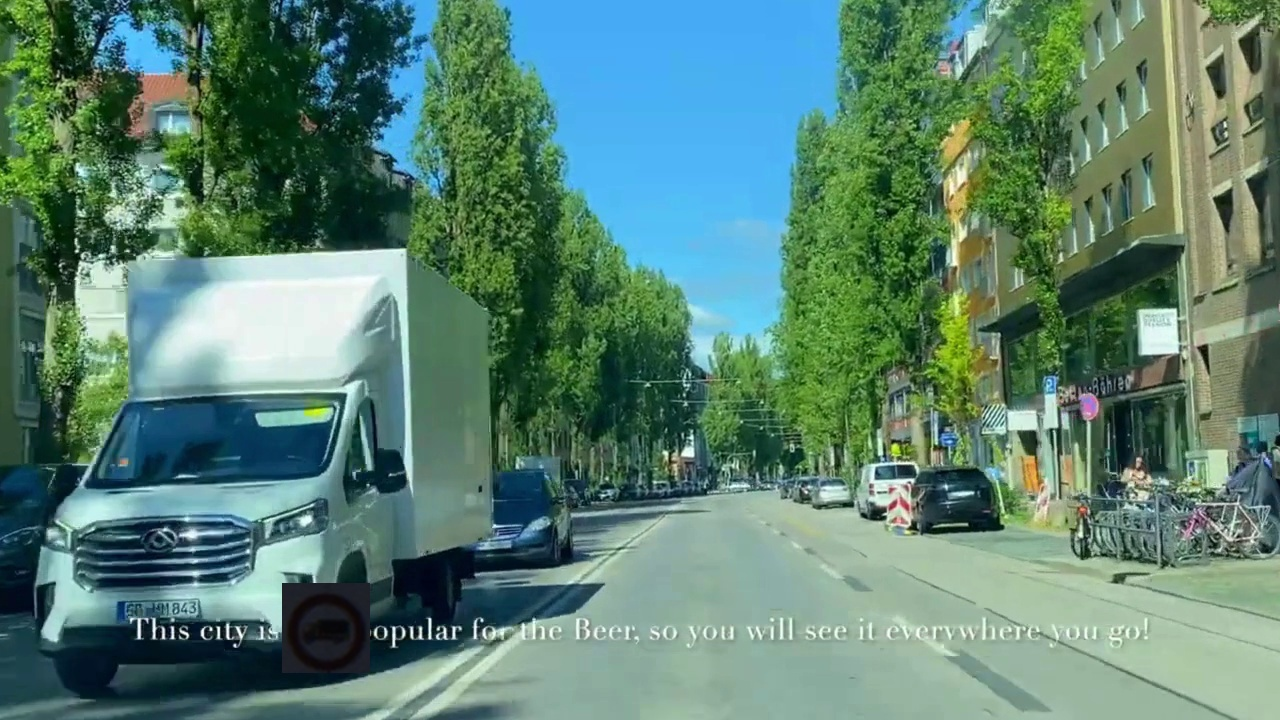Veh >3.5t prohib: (282, 583, 370, 673)
